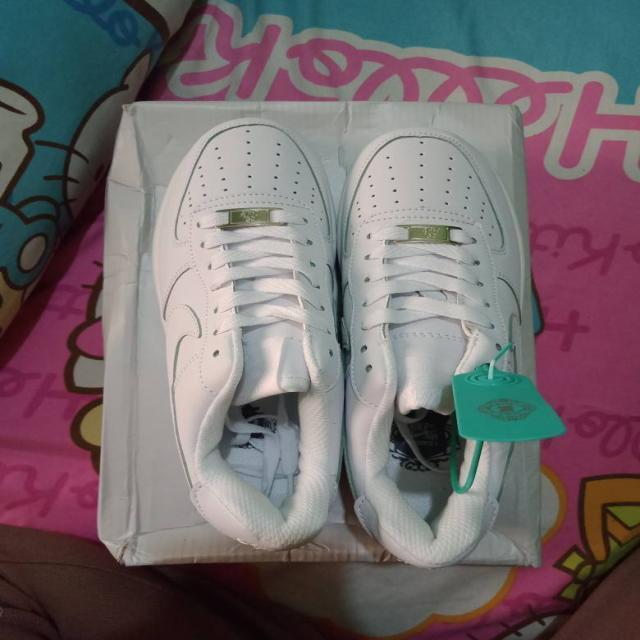nike fake air force: (338, 120, 542, 616), (154, 114, 355, 548)
